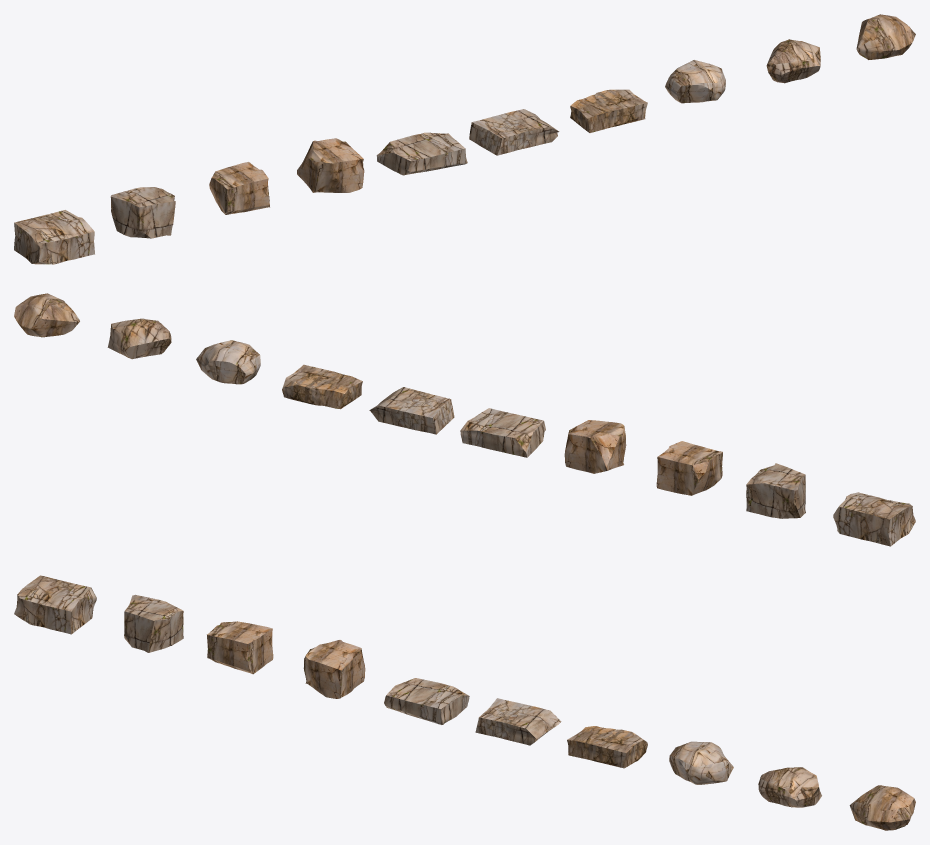
Rendered from rocas-caliza.glb.
3 renders of one model, top to bottom at view 1: azimuth 30°, elevation 25°; view 2: azimuth 150°, elevation 25°; view 3: azimuth 330°, elevation 25°, orthographic.
Visible parts, largest first — view 1: roca0, roca3, roca1, roca4, roca5, roca2, roca6, roca9, roca7, roca8; view 2: roca0, roca4, roca2, roca3, roca1, roca5, roca6, roca7, roca9, roca8; view 3: roca0, roca3, roca2, roca1, roca4, roca5, roca6, roca9, roca7, roca8.
Part boxes in pixels (<box>): roca0: <box>14,210,94,264</box>; roca3: <box>297,138,364,192</box>; roca1: <box>110,187,175,238</box>; roca4: <box>376,132,467,175</box>; roca5: <box>469,109,559,155</box>; roca2: <box>209,162,269,214</box>; roca6: <box>570,89,647,132</box>; roca9: <box>856,14,915,59</box>; roca7: <box>665,60,725,103</box>; roca8: <box>766,39,820,83</box>; roca0: <box>833,492,915,546</box>; roca4: <box>460,408,545,457</box>; roca2: <box>656,441,722,495</box>; roca3: <box>564,420,626,473</box>; roca1: <box>746,463,805,518</box>; roca5: <box>369,387,454,434</box>; roca6: <box>282,364,362,409</box>; roca7: <box>196,340,260,384</box>; roca9: <box>14,293,79,337</box>; roca8: <box>107,318,171,359</box>; roca0: <box>14,575,96,634</box>; roca3: <box>303,640,365,698</box>; roca2: <box>207,621,273,674</box>; roca1: <box>124,594,183,652</box>; roca4: <box>384,678,469,724</box>; roca5: <box>475,698,561,745</box>; roca6: <box>567,726,647,768</box>; roca9: <box>849,785,915,830</box>; roca7: <box>669,741,733,784</box>; roca8: <box>758,767,821,807</box>.
Size of the model in its own units: 19.27 by 0.7595 by 1.18.
Materials: 1 (1 with a texture image).
